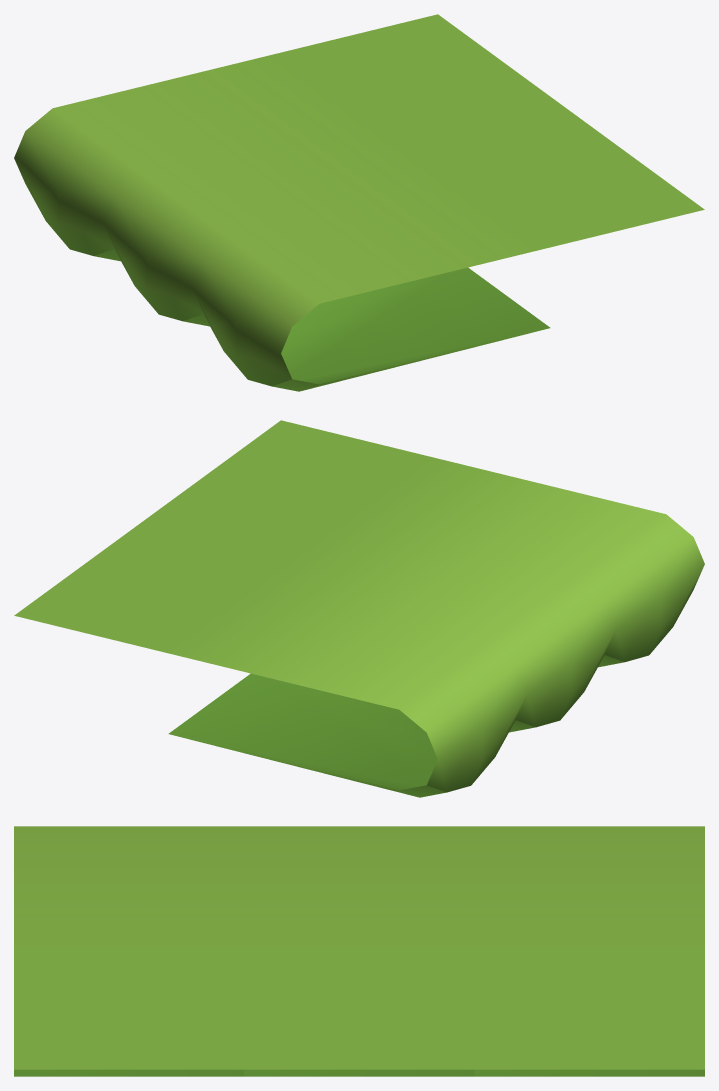
File: Hill_Top_D_Side_Color3.fbx
3 views of the same model, one above another, from view 1: azimuth 30°, elevation 25°; view 2: azimuth 150°, elevation 25°; view 3: azimuth 270°, elevation 25° (orthographic). The views are drawn at different scales.
Visible parts, largest first — view 1: Hill_Top_D_Side_Color3; view 2: Hill_Top_D_Side_Color3; view 3: Hill_Top_D_Side_Color3.
Boxes of the visible parts, <box> form: Hill_Top_D_Side_Color3: <box>14,14,704,391</box>; Hill_Top_D_Side_Color3: <box>14,420,704,797</box>; Hill_Top_D_Side_Color3: <box>14,826,704,1076</box>.
Size of the model in its own units: 2.75 by 0.7052 by 3.
